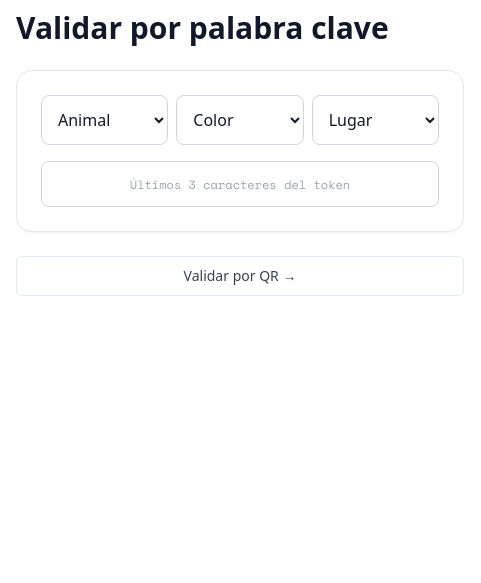
Test case: CheckWordPage › marks the code as used when Validar is clicked
Select "lombriz" in the 1st dropdown at (105, 120), box x1=41 y1=95 x2=168 y2=145
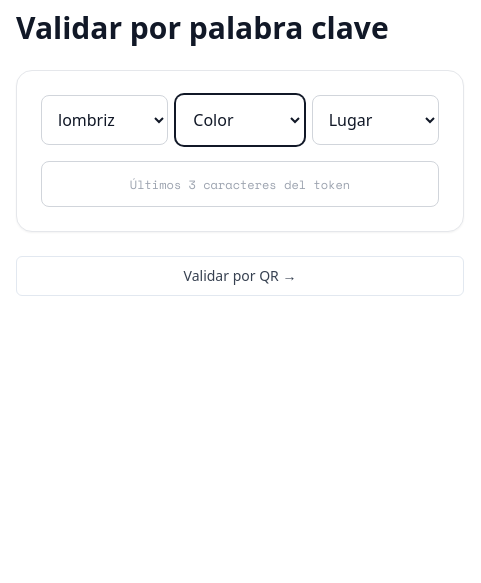
Select "roja" in the 2nd dropdown at (240, 120), box x1=176 y1=95 x2=304 y2=145
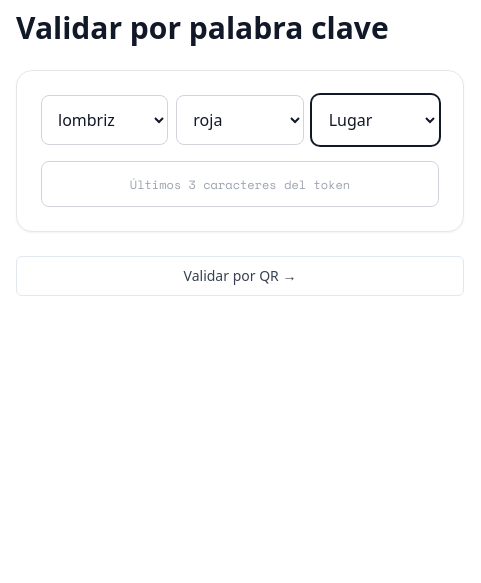
Select "del monte" in the 3rd dropdown at (375, 120), box x1=312 y1=95 x2=439 y2=145
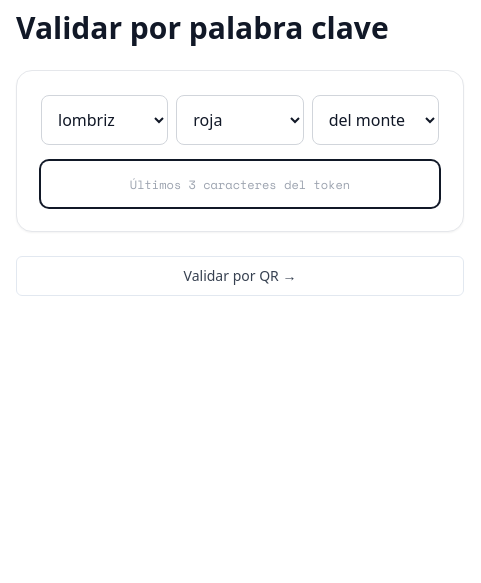
Type "abc" into the field with placeholder "Últimos 3 caracteres del token" at (240, 184), box x1=41 y1=161 x2=439 y2=207
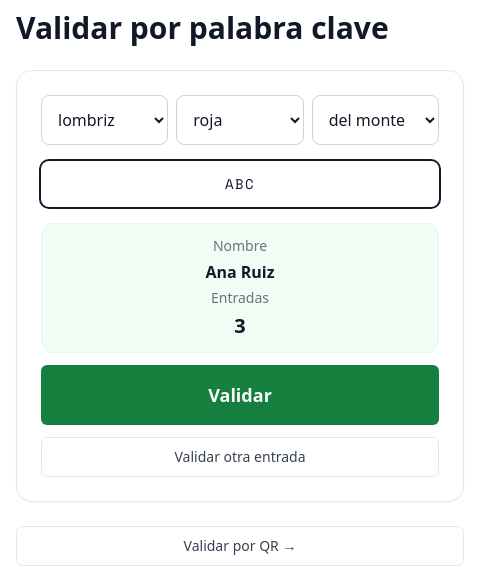
Click the button "Validar" at (240, 395), box x1=41 y1=365 x2=439 y2=425
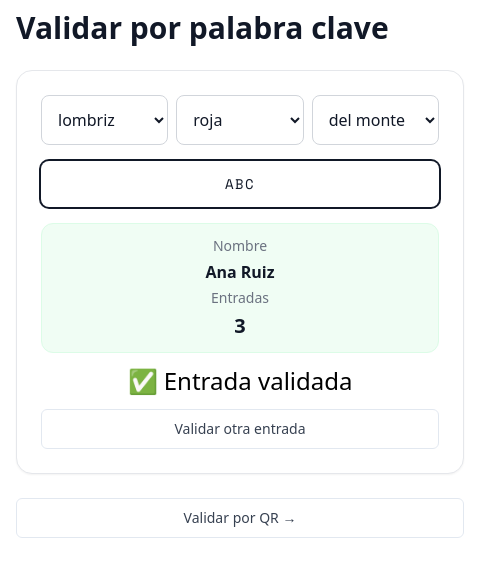
Check: the text "✅ Entrada validada" is shown, box x1=128 y1=364 x2=352 y2=397
